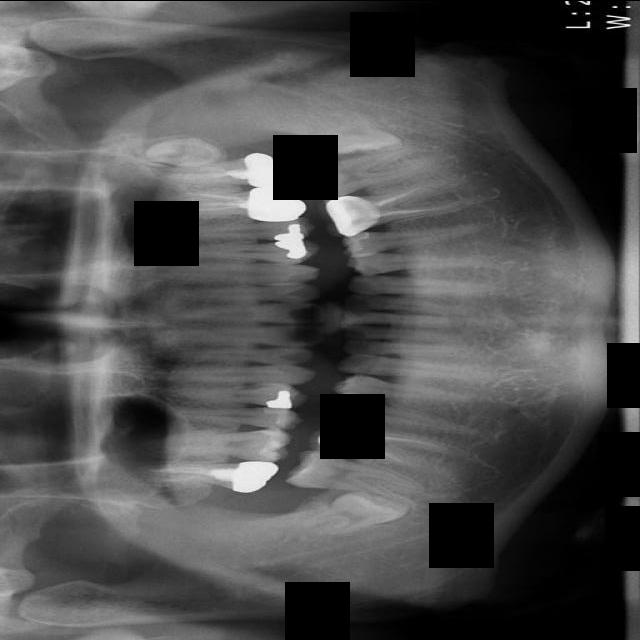52: (320, 179, 383, 242), (220, 445, 281, 507), (307, 406, 370, 465), (236, 141, 289, 196), (298, 161, 363, 198), (248, 185, 303, 222), (241, 428, 289, 460), (268, 236, 317, 267), (249, 404, 301, 433), (257, 382, 307, 410), (265, 216, 316, 242), (341, 230, 385, 258)
73: (346, 422, 456, 473), (367, 177, 466, 225), (162, 187, 253, 224), (155, 156, 245, 187), (146, 461, 238, 486), (565, 49, 573, 52)
BioHorizons Implant: (152, 151, 288, 187)
BioLife Implant: (143, 134, 218, 170)
Biomet 3i Implant: (293, 102, 400, 157)
Blue Sky Bio Implant: (296, 138, 431, 205)
Caries: (144, 458, 277, 491)
Implant: (282, 445, 426, 509)
Keystone Dental Implant: (302, 474, 416, 544)
